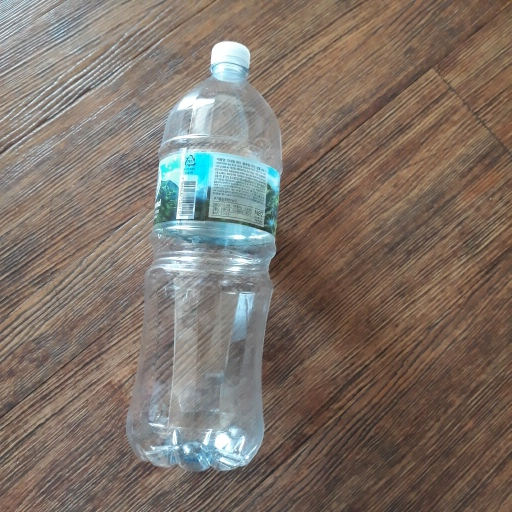Plastic_0: (127, 41, 281, 465)
